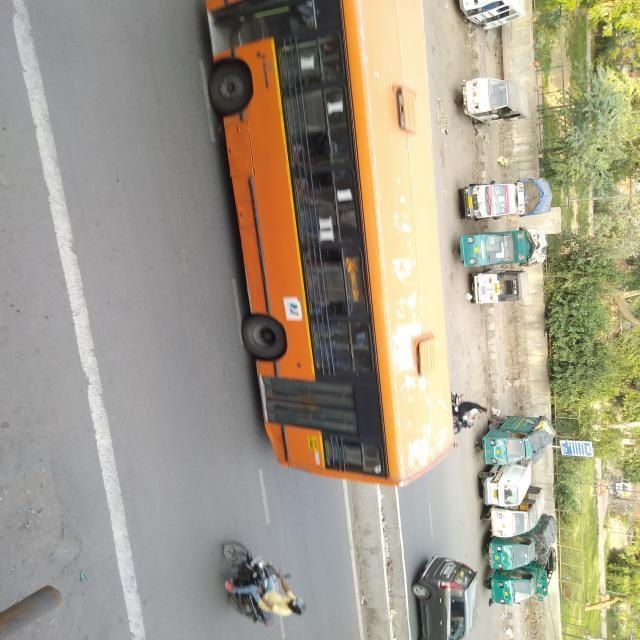Car: (418, 550, 471, 640), (457, 70, 532, 130), (460, 220, 536, 275), (484, 404, 544, 472), (456, 170, 532, 220), (497, 558, 552, 614), (484, 468, 534, 509), (492, 506, 540, 544), (490, 542, 538, 578)
